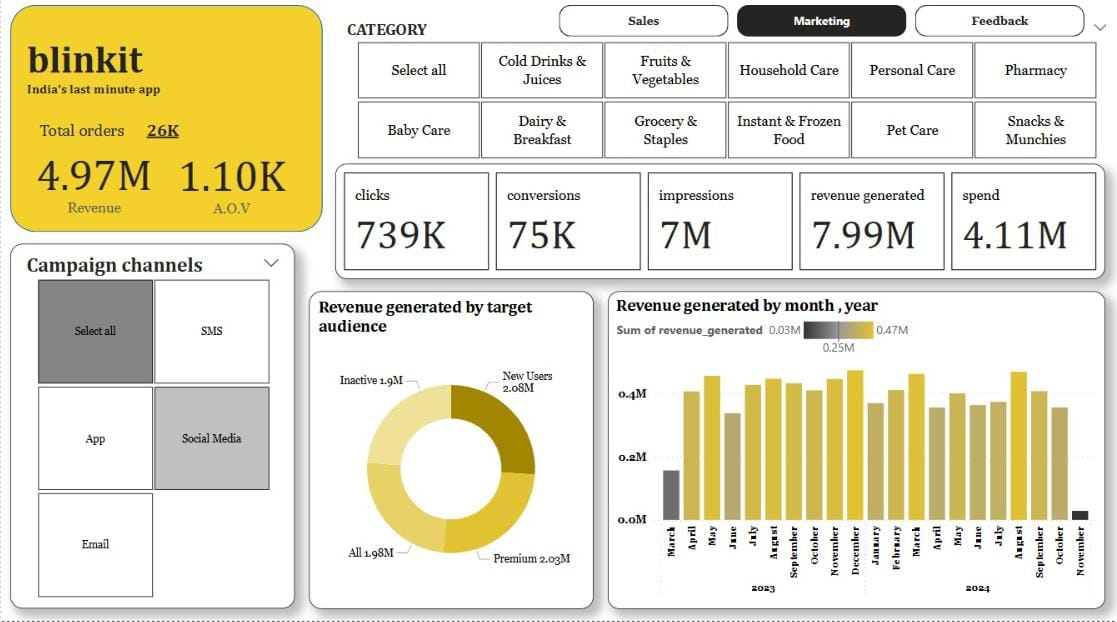

Layout of this report page (visuals, bound fields, positions):
{"tool":"powerbi","page":{"name":"Marketing","canvas":[1280,720],"ordinal":1},"visuals":[{"type":"shape","box":[12,14,358,260],"z":0},{"type":"textbox","box":[25.6,46.3,193.3,86.3],"z":1000},{"type":"textbox","box":[39.9,132.6,178.9,47.9],"z":2000},{"type":"card","fields":{"Values":["Sum(blinkit_customers.total_orders)"]},"box":[123,135.8,124.6,44.7],"z":3000},{"type":"card","fields":{"Values":["blinkit_order_items.Revenue1"]},"box":[12.8,166.2,188.5,95.9],"z":4000},{"type":"card","fields":{"Values":["Avg(blinkit_customers.avg_order_value)"]},"box":[191.7,156.6,145.4,118.2],"z":5000},{"type":"slicer","fields":{"Values":["blinkit_products.category"]},"box":[383.4,25.6,896.3,171],"z":6000},{"type":"slicer","fields":{"Values":["blinkit_marketing_performance.channel"]},"box":[12,288,326,418],"z":7000},{"type":"cardVisual","fields":{"Data":["Sum(blinkit_marketing_performance.clicks)","Sum(blinkit_marketing_performance.conversions)","Sum(blinkit_marketing_performance.impressions)","Sum(blinkit_marketing_performance.revenue_generated)","Sum(blinkit_marketing_performance.spend)"]},"box":[384,196,882,132],"z":8000},{"type":"donutChart","title":"Revenue generated by target audience","fields":{"Category":["blinkit_marketing_performance.target_audience"],"Y":["Sum(blinkit_marketing_performance.revenue_generated)"]},"box":[354,342,326,364],"z":9000},{"type":"clusteredColumnChart","title":"Revenue generated by month , year","fields":{"Category":["blinkit_marketing_performance.date.Variation.Date Hierarchy.Year","blinkit_marketing_performance.date.Variation.Date Hierarchy.Month"],"Y":["Sum(blinkit_marketing_performance.revenue_generated)"]},"box":[696,342,570,364],"z":10000},{"type":"pageNavigator","box":[640,14,602,36],"z":11000}]}

Visuals, with their boxes in screenshot pixels (x1, y1, x2, y2), scaled from the page's 1280x720 canvas onto the 1117x622 screenshot:
shape: Rect(10, 12, 323, 237)
textbox: Rect(22, 40, 191, 115)
textbox: Rect(35, 115, 191, 156)
card - Sum(blinkit_customers.total_orders): Rect(107, 117, 216, 156)
card - blinkit_order_items.Revenue1: Rect(11, 144, 176, 226)
card - Avg(blinkit_customers.avg_order_value): Rect(167, 135, 294, 237)
slicer - blinkit_products.category: Rect(335, 22, 1116, 170)
slicer - blinkit_marketing_performance.channel: Rect(10, 249, 295, 610)
cardVisual - Sum(blinkit_marketing_performance.clicks) x Sum(blinkit_marketing_performance.conversions): Rect(335, 169, 1105, 283)
"Revenue generated by target audience" donutChart: Rect(309, 295, 593, 610)
"Revenue generated by month , year" clusteredColumnChart: Rect(607, 295, 1105, 610)
pageNavigator: Rect(558, 12, 1084, 43)
